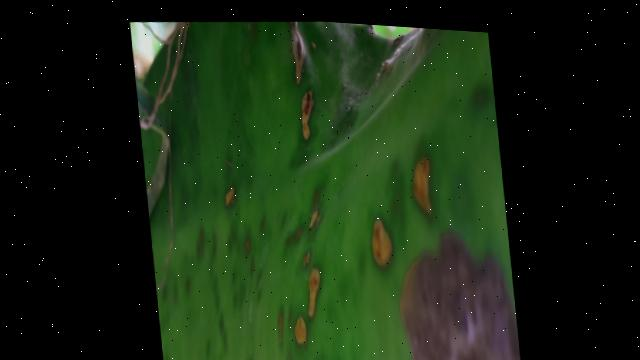stemcanker: (368, 211, 397, 271), (298, 262, 325, 325), (410, 151, 436, 216), (297, 88, 318, 147), (302, 186, 322, 234), (287, 312, 312, 349), (221, 182, 240, 211)
